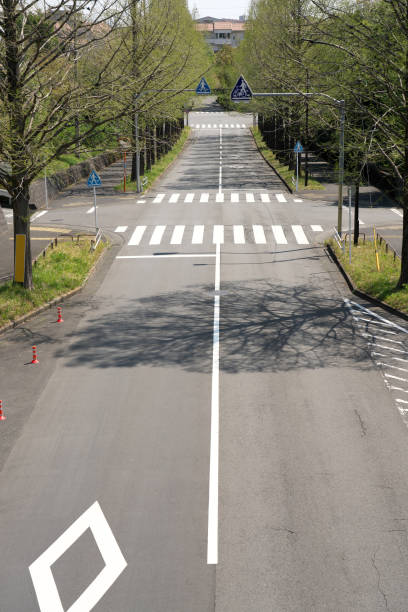bollard: (30, 346, 39, 365), (55, 307, 64, 324)
zebracross: (118, 221, 323, 246), (143, 186, 290, 206), (190, 121, 252, 131)
